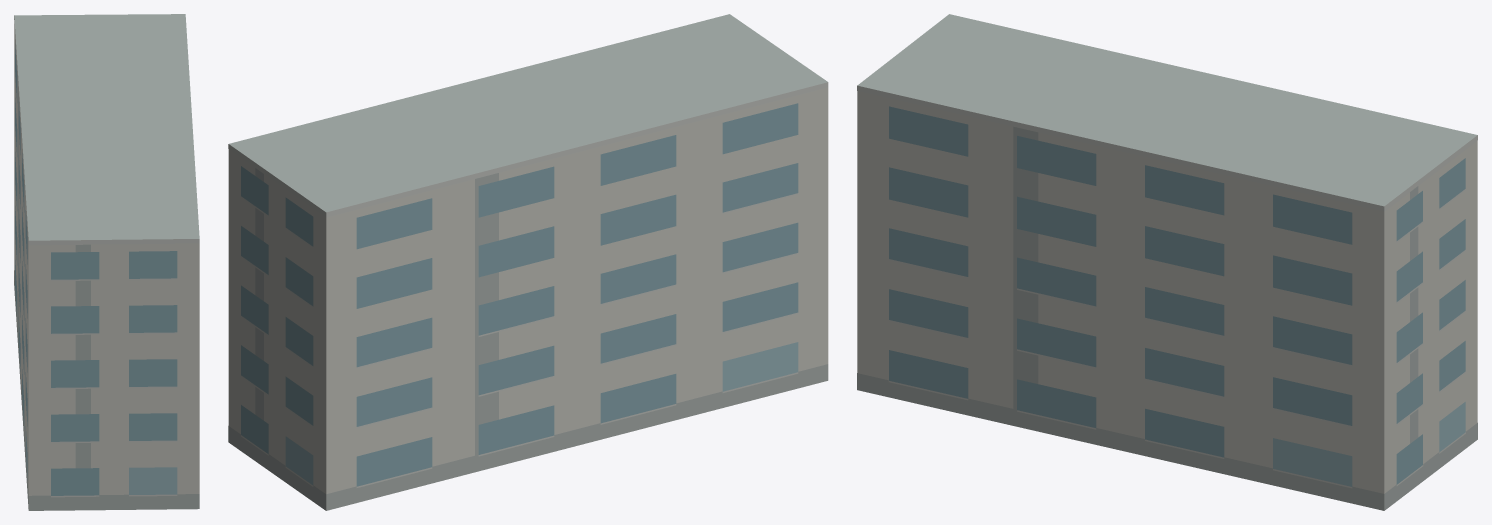
File: survey-upis-32978833.glb
3 views of the same model, side by side, from view 1: azimuth 30°, elevation 25°; view 2: azimuth 150°, elevation 25°; view 3: azimuth 270°, elevation 25° (orthographic). The views are drawn at different scales.
Visible parts, largest first — view 1: survey-upis-32978833.tmp; view 2: survey-upis-32978833.tmp; view 3: survey-upis-32978833.tmp.
Boxes of the visible parts, x1=… form: survey-upis-32978833.tmp: x1=14, y1=14, x2=199, y2=510; survey-upis-32978833.tmp: x1=228, y1=14, x2=828, y2=510; survey-upis-32978833.tmp: x1=857, y1=14, x2=1477, y2=510.
Size of the model in its own units: 18.98 by 14 by 25.87.
